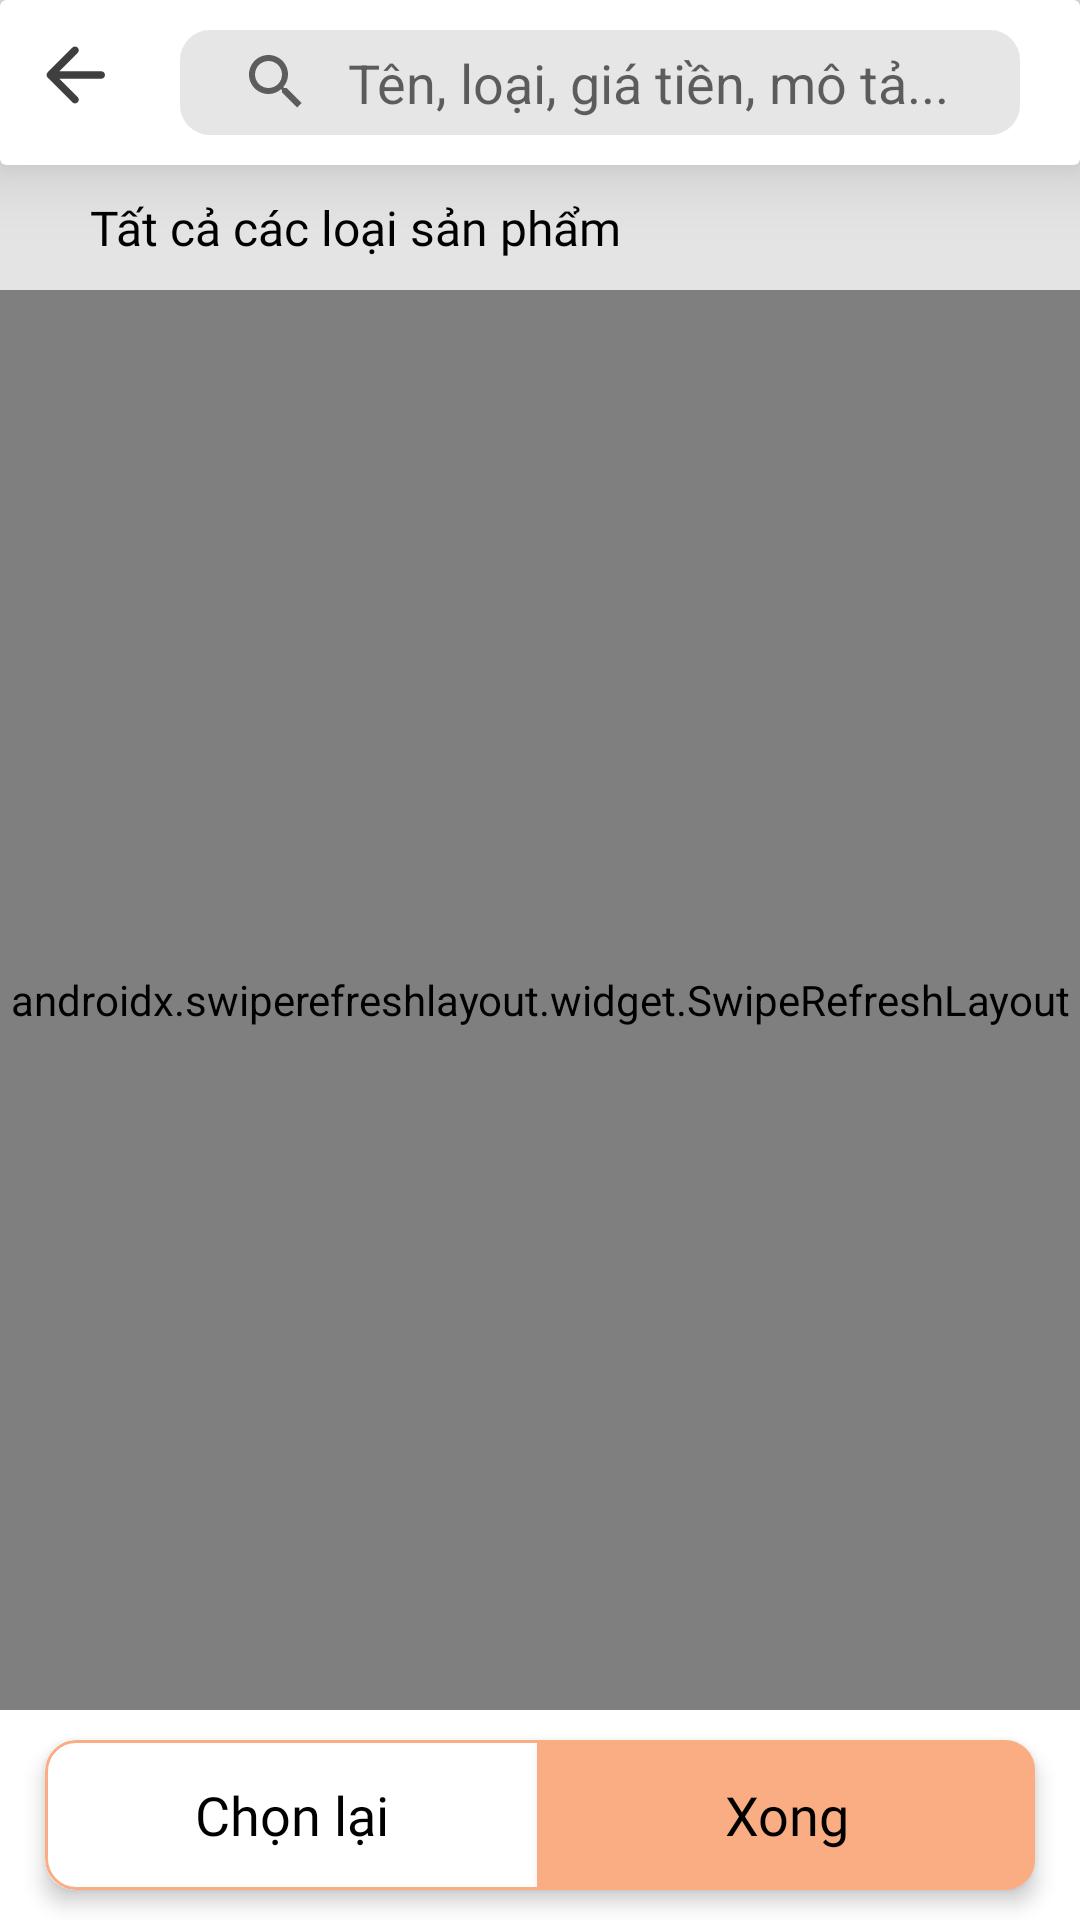

Named icons in this screenshot (1080×1920) and their bounding boxes, (x1, y1, x2, y2):
arrow back: (46, 46, 105, 104)
